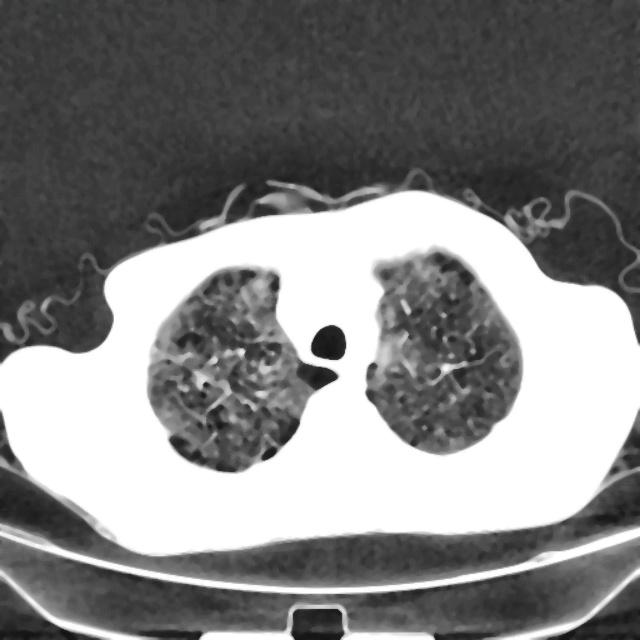covid: (145, 263, 340, 473), (364, 245, 523, 455)
